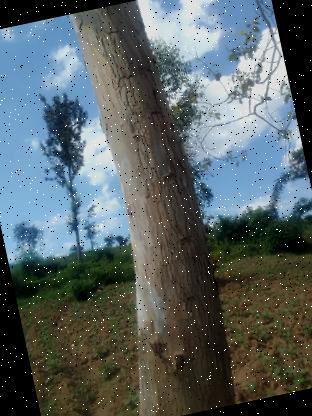tree: (50, 0, 249, 416)
